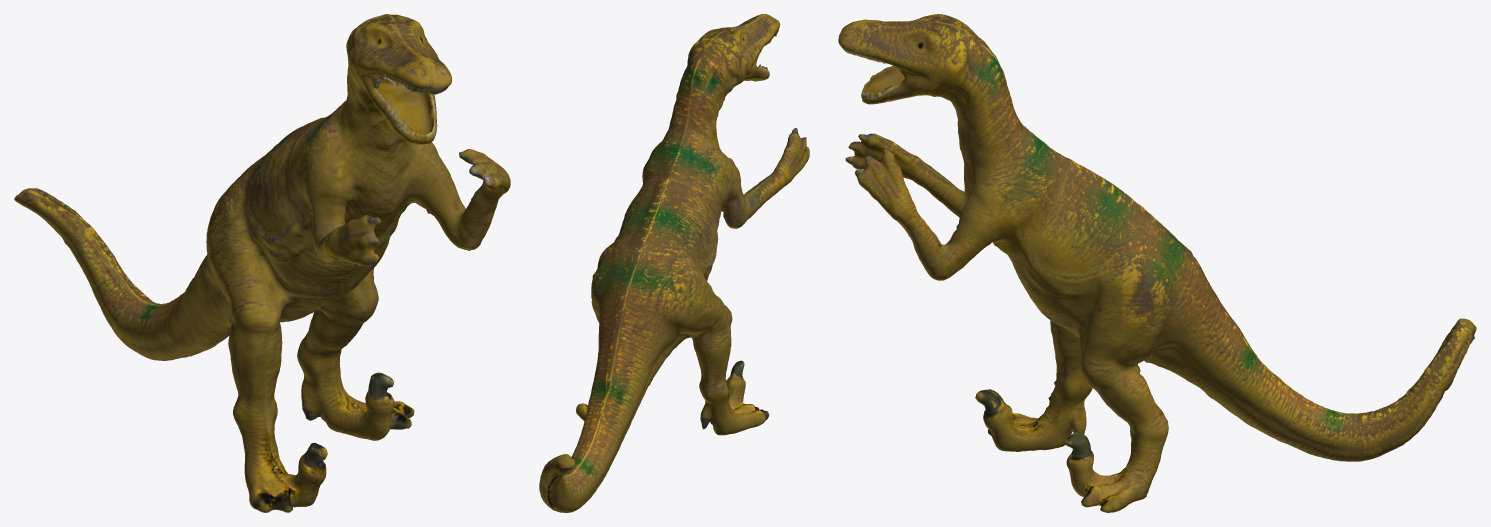
Rendered from toy_dinosaur.glb.
3 renders of one model, left to right at view 1: azimuth 30°, elevation 25°; view 2: azimuth 150°, elevation 25°; view 3: azimuth 270°, elevation 25°, orthographic. The views are drawn at different scales.
Visible parts, largest first — view 1: Object_2; view 2: Object_2; view 3: Object_2.
Boxes of the visible parts, x1=… form: Object_2: x1=14, y1=14, x2=510, y2=512; Object_2: x1=539, y1=14, x2=809, y2=512; Object_2: x1=838, y1=14, x2=1476, y2=512.
Bounding box in the file's own units: 3 × 6.73 × 8.62.
Materials: 1 (1 with a texture image).
